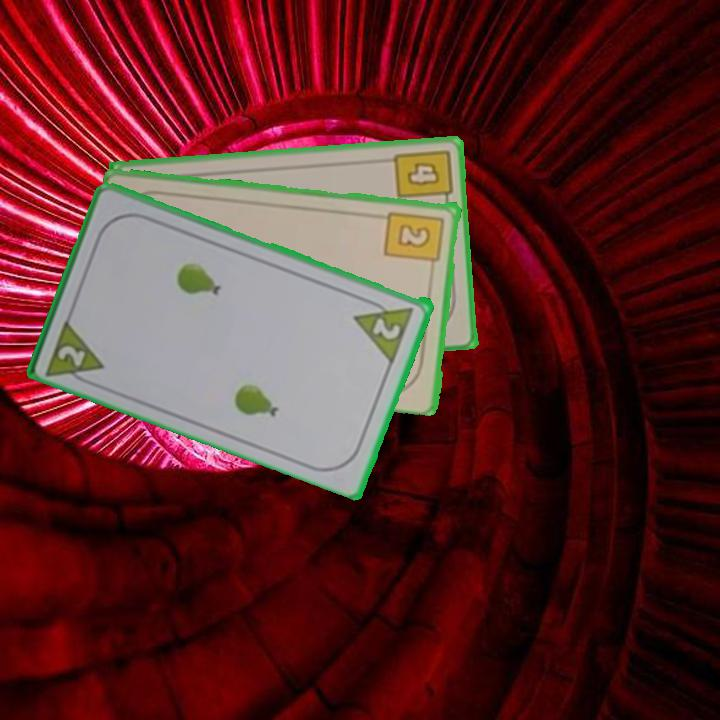2b: (382, 207, 447, 274)
2p: (369, 313, 405, 343), (54, 341, 89, 370)
4b: (391, 145, 455, 209)
